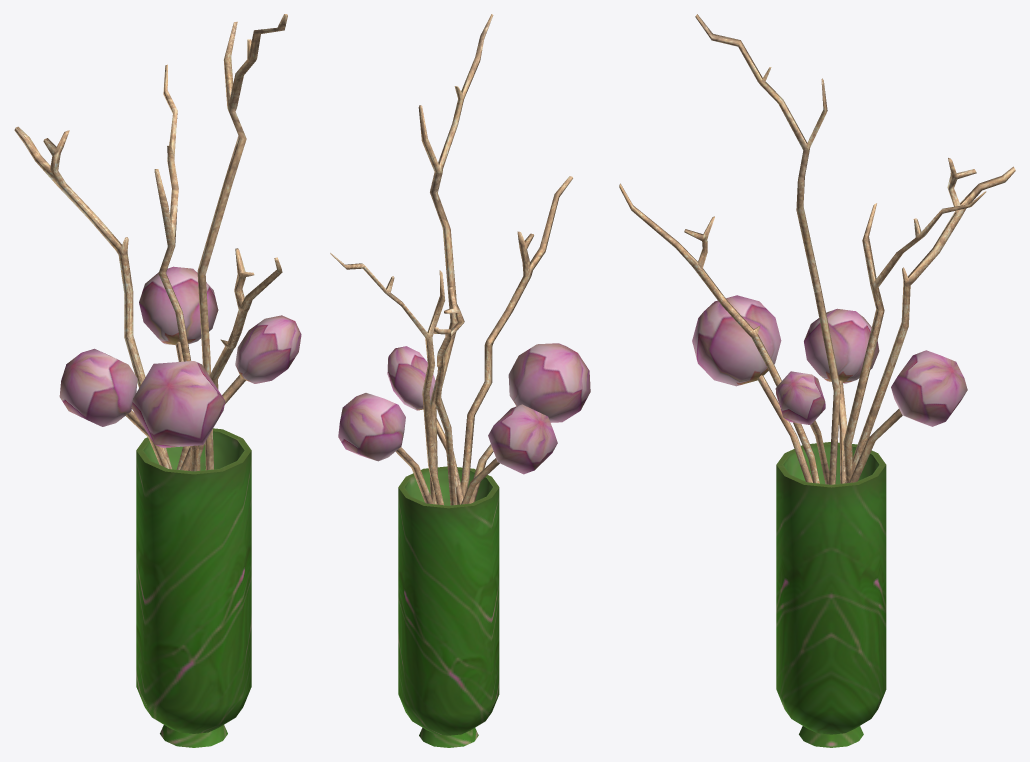
File: mt_dj_huaping_01.fbx
3 views of the same model, side by side, from view 1: azimuth 30°, elevation 25°; view 2: azimuth 150°, elevation 25°; view 3: azimuth 270°, elevation 25° (orthographic). The views are drawn at different scales.
Visible parts, largest first — view 1: mt_dj_huaping_01; view 2: mt_dj_huaping_01; view 3: mt_dj_huaping_01.
Part boxes in pixels (x1,y1,x2,y2): mt_dj_huaping_01: [14, 14, 301, 747]; mt_dj_huaping_01: [330, 14, 590, 747]; mt_dj_huaping_01: [619, 14, 1015, 747].
Bounding box in the file's own units: 47.5 × 82.19 × 167.
